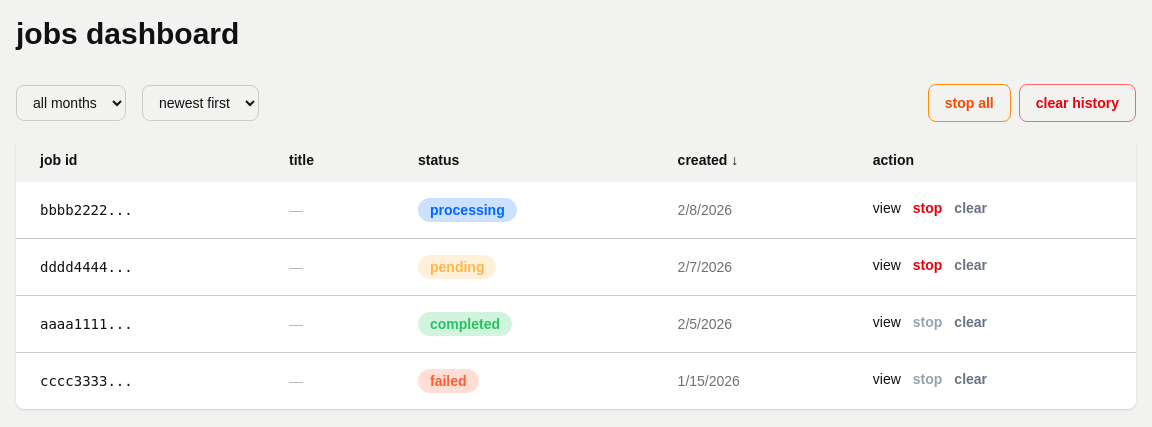
Test case: Dashboard › filters jobs by month
Check: the heading "jobs dashboard" is shown, box [16,16,239,52]
Step 1. Select "Jan 2026" in the 1st dropdown showing "all months" → (71, 103), box [16,85,126,121]
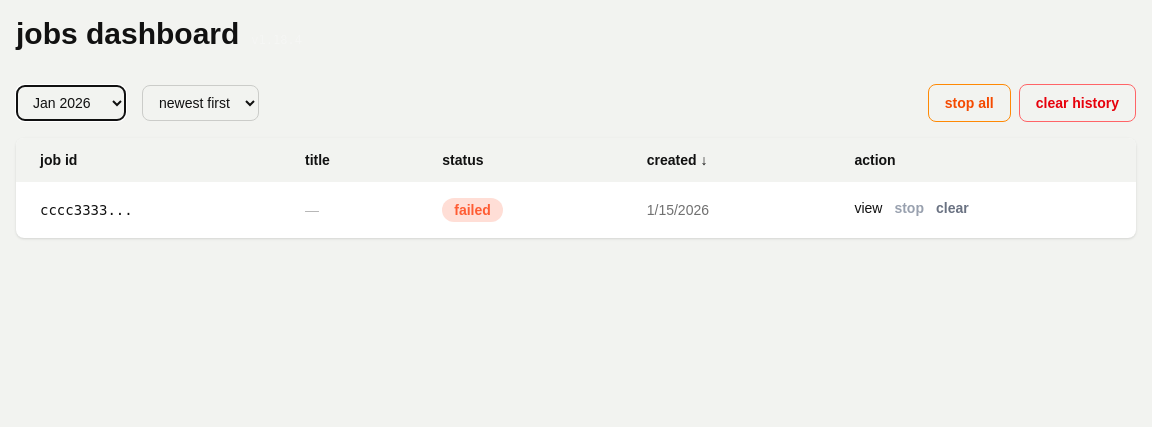
Check: the text "failed" is shown, box [442,198,503,222]
Check: the text "completed" is gone
Check: the text "processing" is gone
